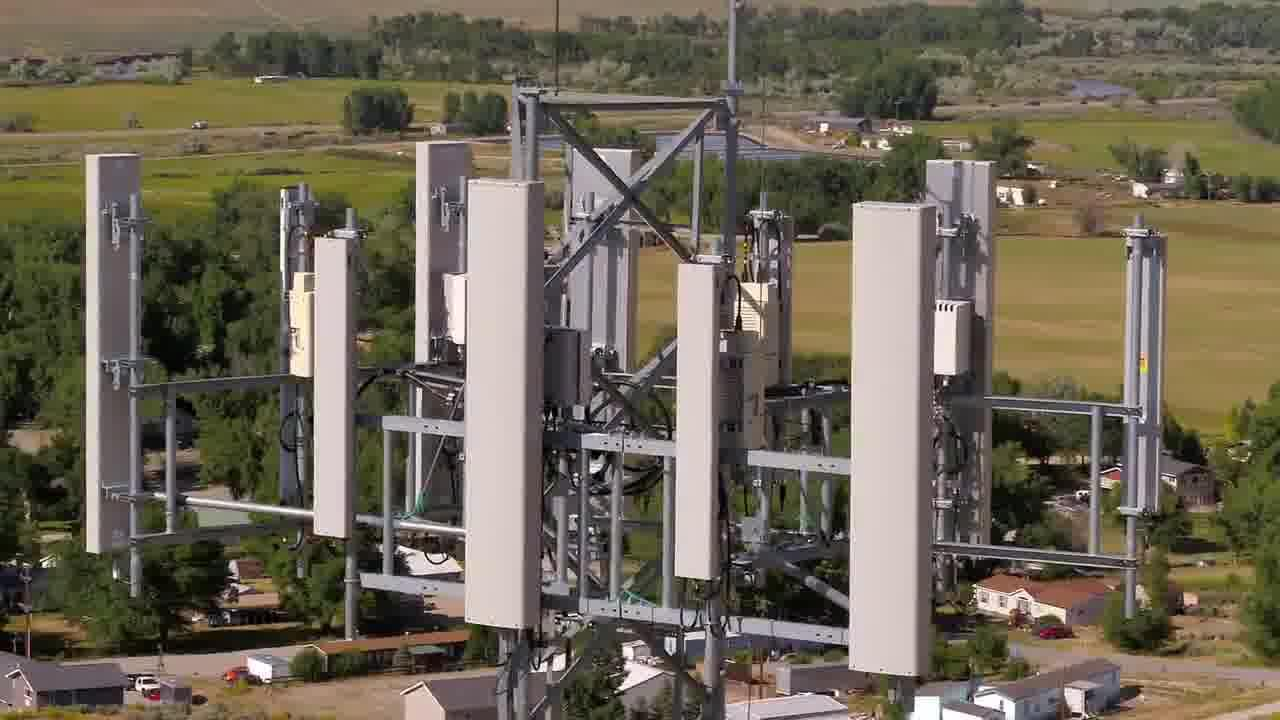antenna: (849, 190, 952, 697), (448, 172, 552, 657), (76, 144, 155, 566), (921, 149, 996, 547), (565, 131, 648, 472), (313, 229, 367, 559), (1114, 226, 1173, 517), (677, 245, 726, 591), (413, 125, 459, 383)
